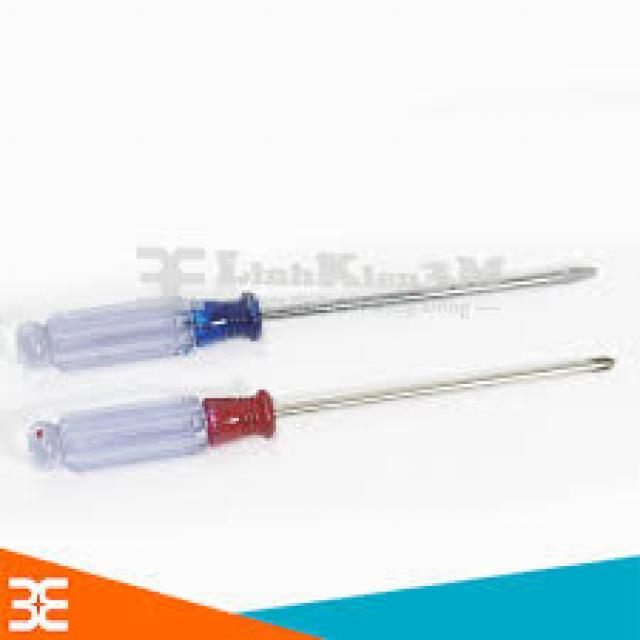screwdriver: (19, 352, 618, 480), (14, 258, 606, 382)
